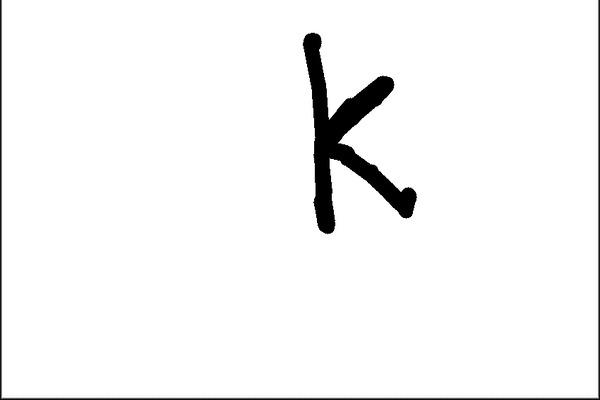K: (291, 26, 424, 242)
